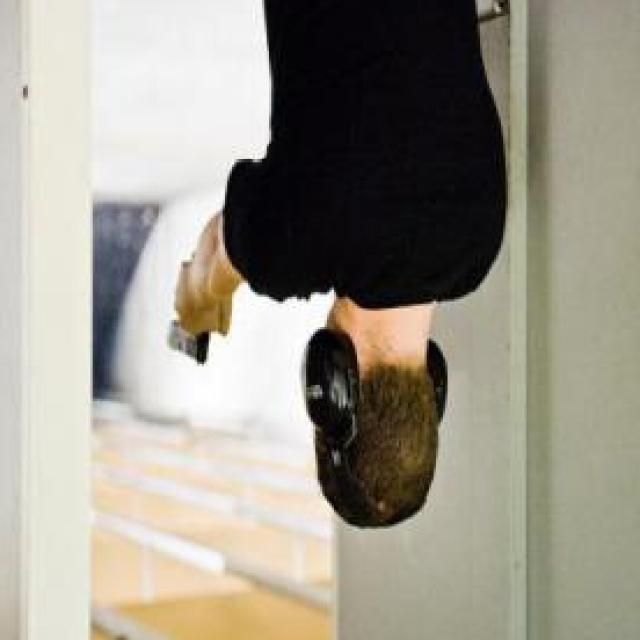pistol: (166, 299, 211, 366)
